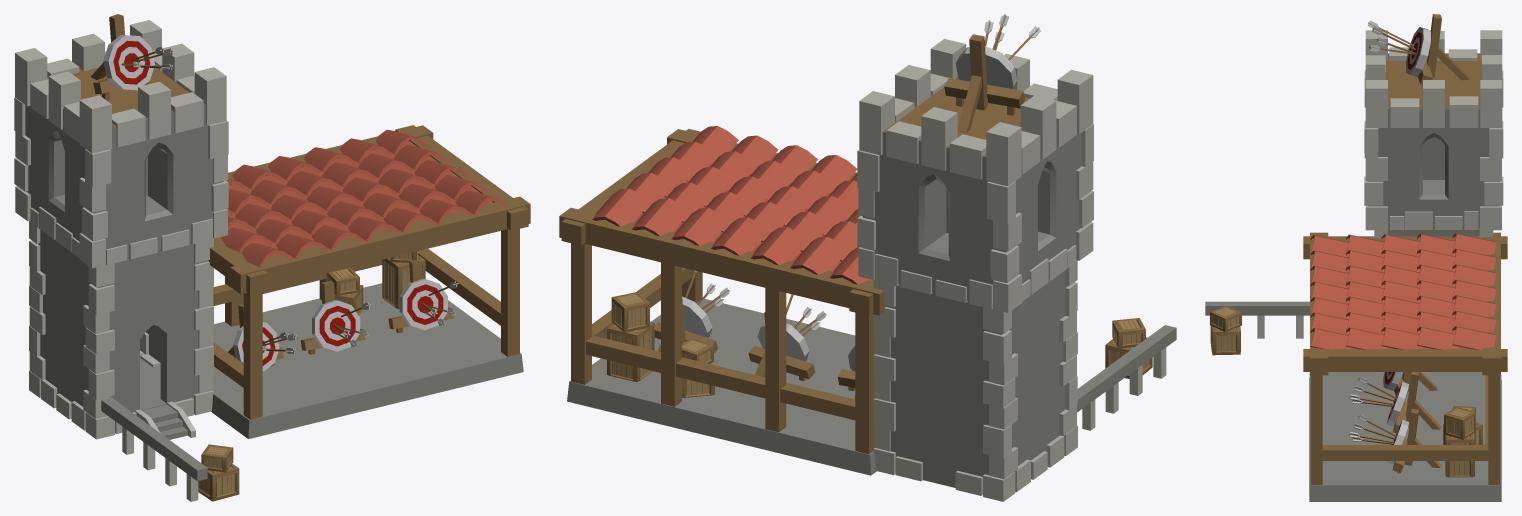
Rendered from Archery Second Age Le.glb.
3 renders of one model, left to right at view 1: azimuth 30°, elevation 25°; view 2: azimuth 150°, elevation 25°; view 3: azimuth 270°, elevation 25°, orthographic. The views are drawn at different scales.
Parts seen in each view (by area): view 1: Archery_SecondAge_Level1; view 2: Archery_SecondAge_Level1; view 3: Archery_SecondAge_Level1.
Boxes of the visible parts, x1,y1,x2,y2 form: Archery_SecondAge_Level1: (14, 14, 530, 501); Archery_SecondAge_Level1: (559, 14, 1176, 501); Archery_SecondAge_Level1: (1205, 14, 1507, 501).
Bounding box in the file's own units: 1.38 × 1.25 × 1.
